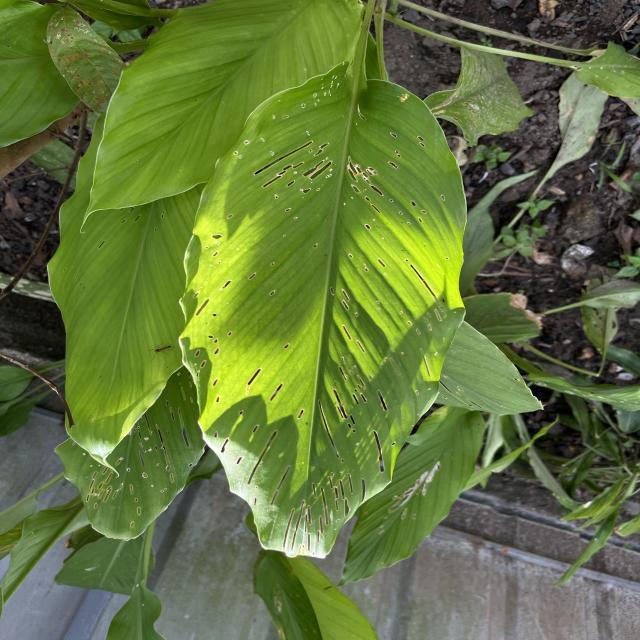Curcuma longa: (175, 58, 470, 562), (77, 0, 366, 237), (42, 113, 208, 484)
